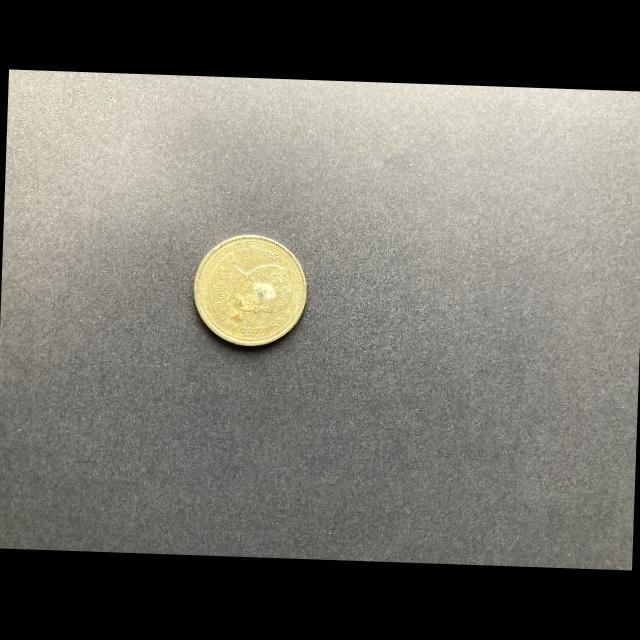2 Bath: (193, 233, 313, 351)
